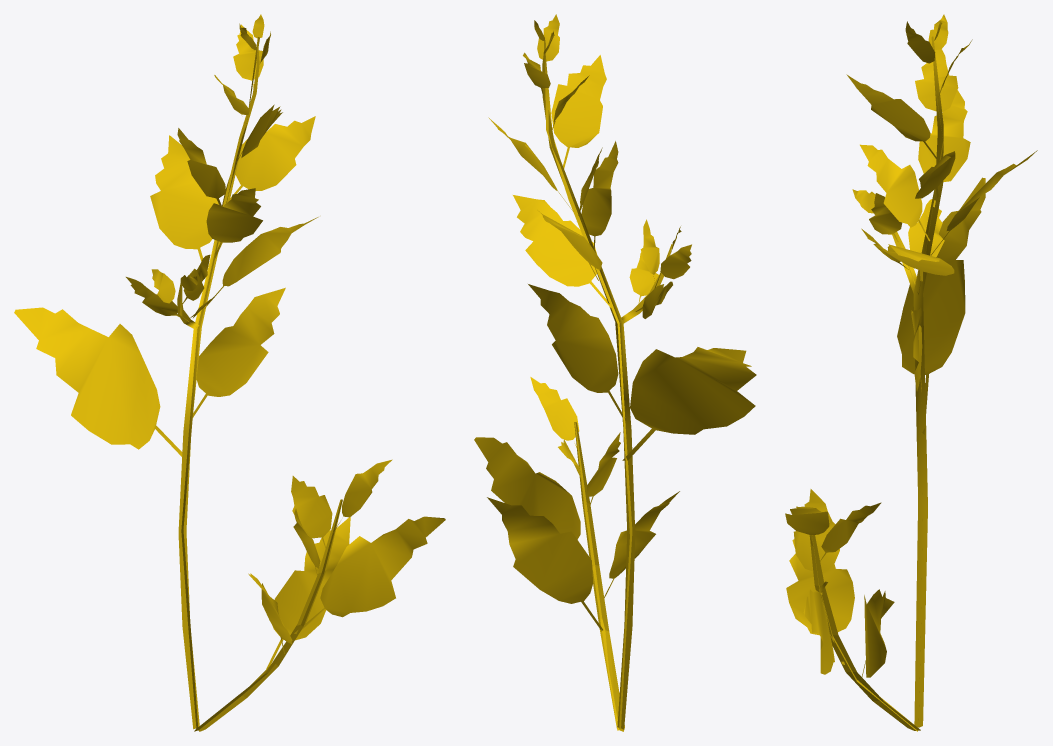
The model's file is PS_Level1_GenericPlant01.fbx.
The picture shows the model from 3 angles, left to right: view 1: azimuth 30°, elevation 25°; view 2: azimuth 150°, elevation 25°; view 3: azimuth 270°, elevation 25°; orthographic projection. The views are drawn at different scales.
Parts seen in each view (by area): view 1: PS_Level1_GenericPlant1_LOD0; view 2: PS_Level1_GenericPlant1_LOD0; view 3: PS_Level1_GenericPlant1_LOD0.
Boxes of the visible parts, x1,y1,x2,y2 form: PS_Level1_GenericPlant1_LOD0: (14,14,445,731); PS_Level1_GenericPlant1_LOD0: (474,14,756,731); PS_Level1_GenericPlant1_LOD0: (785,14,1037,731).
Size of what is drawn, in the model's own units: 17.67 by 33.32 by 10.21.
